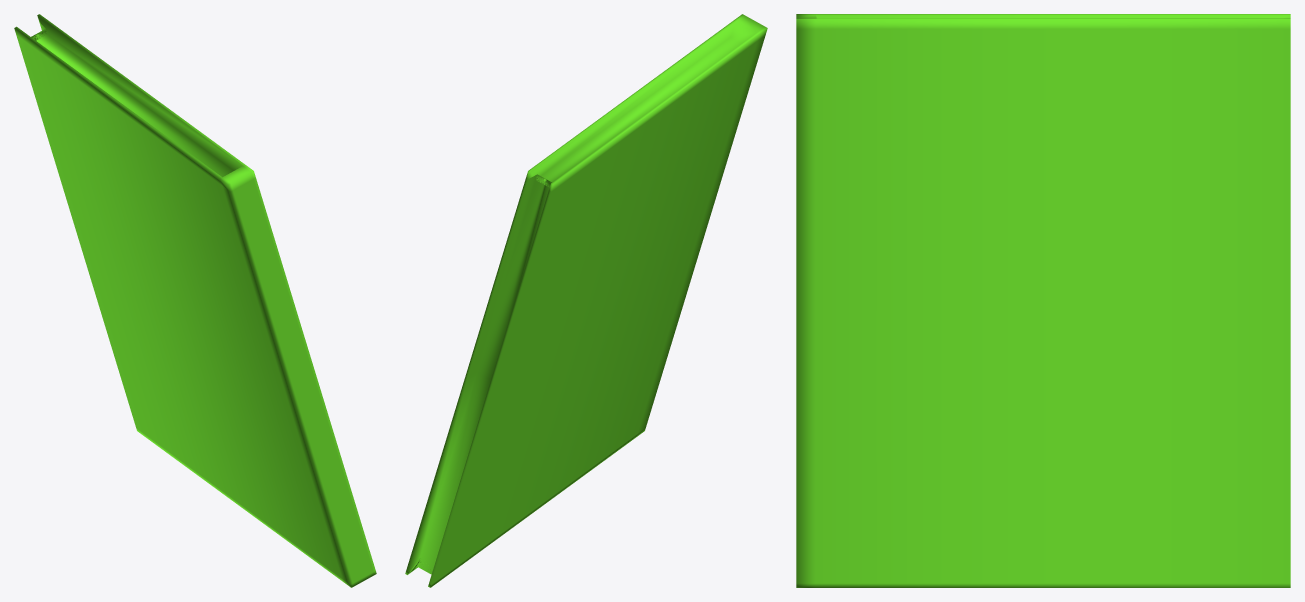
File: K-Book_2.fbx
3 renders of one model, left to right at view 1: azimuth 30°, elevation 25°; view 2: azimuth 150°, elevation 25°; view 3: azimuth 270°, elevation 25°, orthographic. The views are drawn at different scales.
Parts seen in each view (by area): view 1: Book.003; view 2: Book.003; view 3: Book.003.
Part boxes in pixels (x1,y1,x2,y2): Book.003: [14, 14, 376, 587]; Book.003: [405, 14, 767, 587]; Book.003: [796, 14, 1290, 587].
Size of the model in its own units: 22.74 by 64.6 by 56.93.
